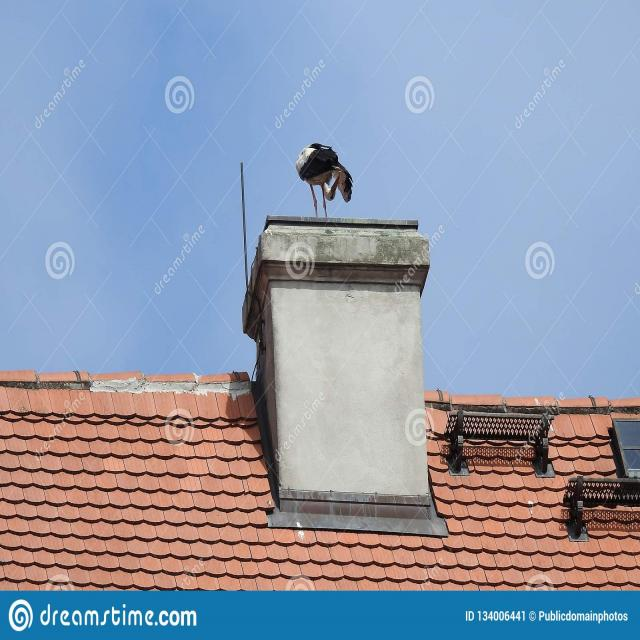bird: (294, 142, 354, 218)
